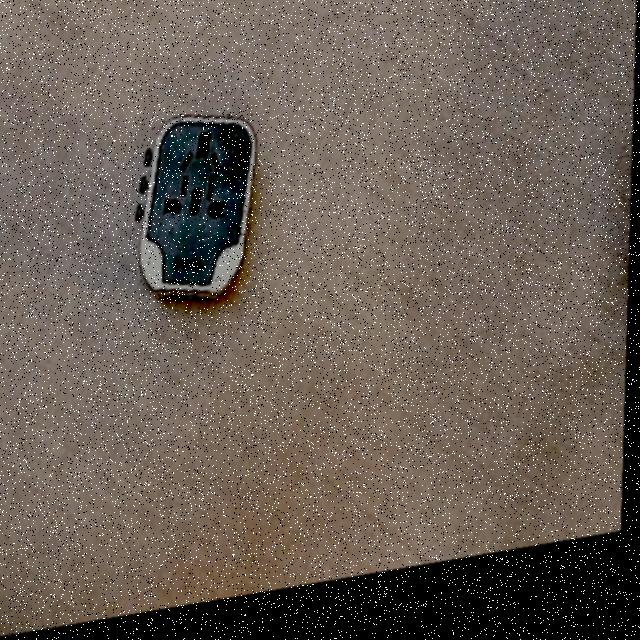adapter: (133, 110, 259, 317)
